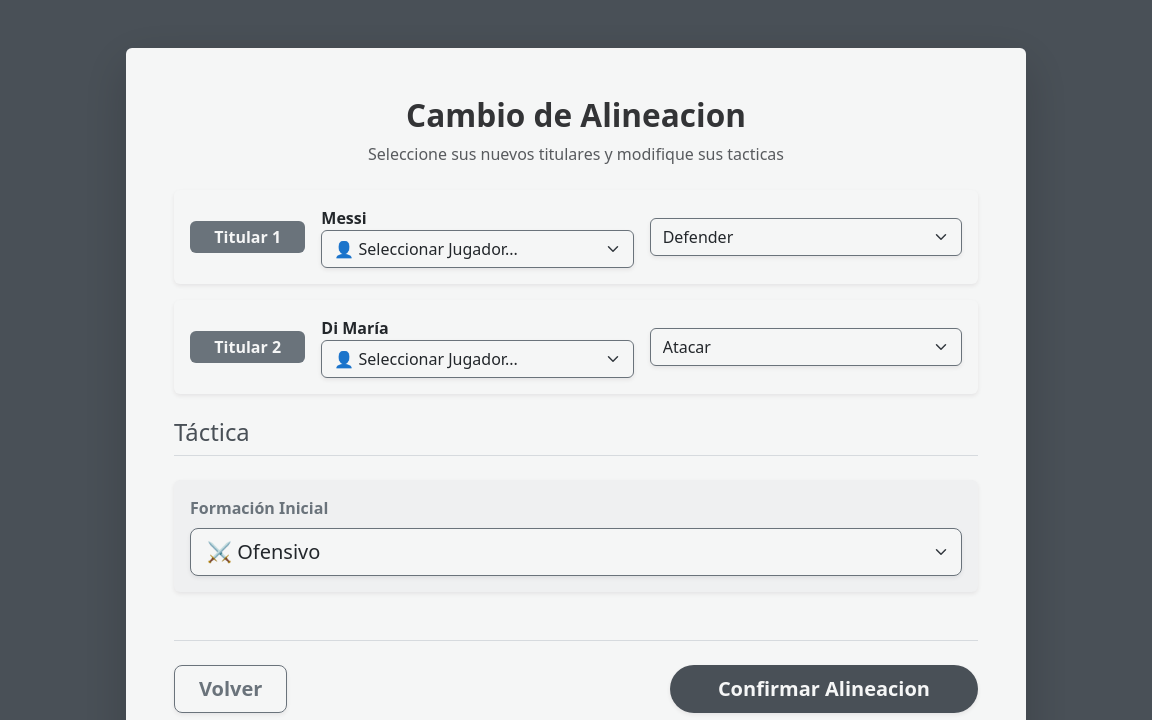
Scenario: CambiarAlineacion Container › cambia al titular por el suplente seleccionado
The width and height of the screenshot is (1152, 720).
Check: the text "Messi" is shown, box [321,207,367,229]
Select "Lautaro" in the dropdown named "reemplazar a messi" at (477, 249), box [321,230,634,268]
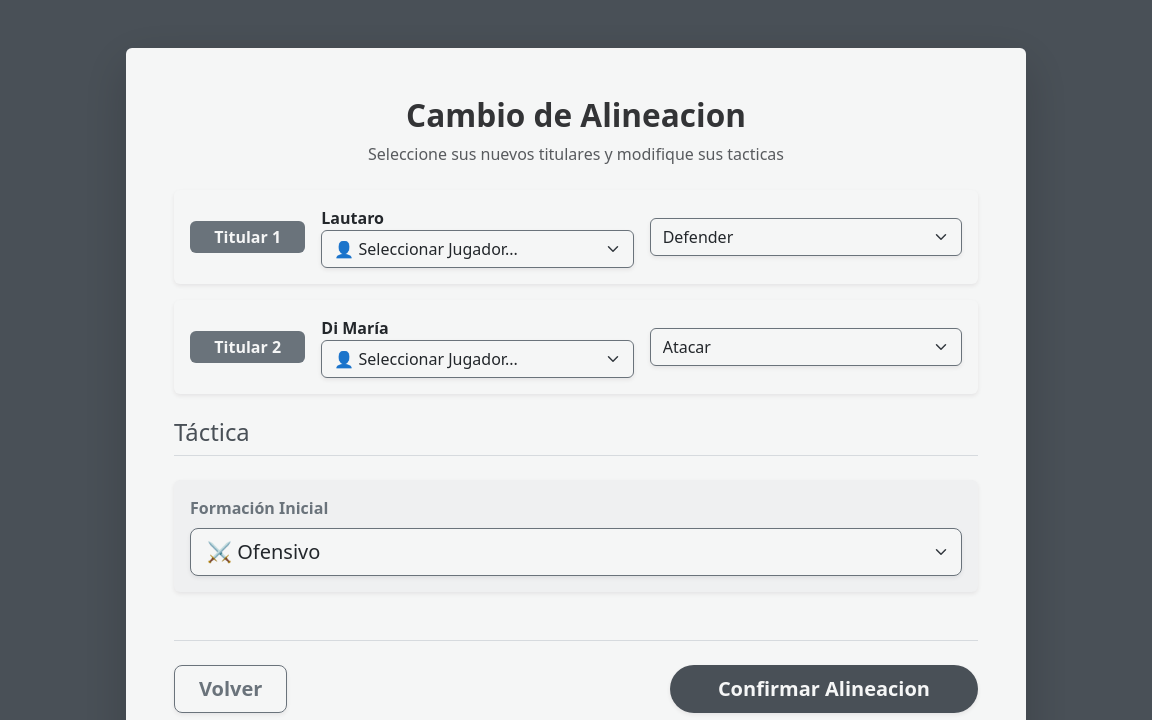
Check: the text with test id "nombre-titular" reads "Di María", box [321,317,389,339]
Check: the text with test id "nombre-titular" reads "Lautaro", box [321,207,384,229]
